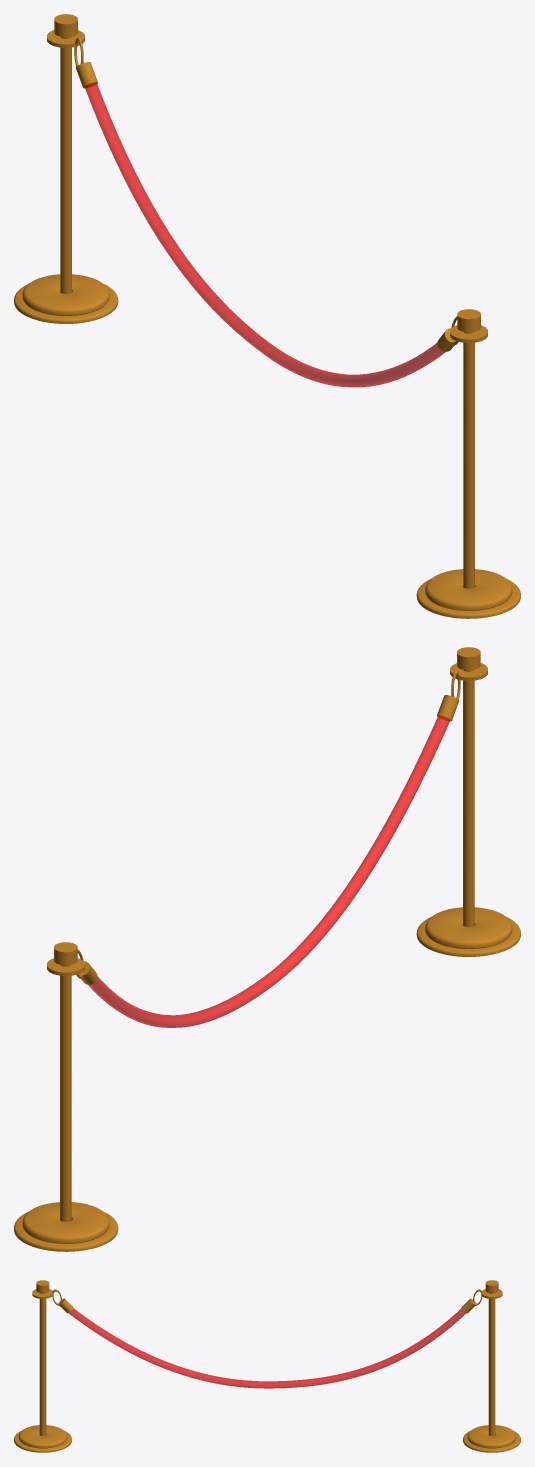
Rendered from Stoyka.fbx.
3 views of the same model, one above another, from view 1: azimuth 30°, elevation 25°; view 2: azimuth 150°, elevation 25°; view 3: azimuth 270°, elevation 25° (orthographic). The views are drawn at different scales.
Parts seen in each view (by area): view 1: Shape030, Menu_stand_007, Menu_stand_004, Tube025, Tube026; view 2: Shape030, Menu_stand_004, Menu_stand_007, Tube026, Tube025; view 3: Shape030, Menu_stand_004, Menu_stand_007, Tube025, Tube026.
Boxes of the visible parts, <box> form: Shape030: <box>85,82,445,387</box>; Menu_stand_007: <box>416,569,520,618</box>; Menu_stand_004: <box>14,274,118,323</box>; Tube025: <box>60,36,71,293</box>; Tube026: <box>463,332,474,588</box>; Shape030: <box>88,715,450,1027</box>; Menu_stand_004: <box>14,1202,118,1251</box>; Menu_stand_007: <box>416,907,520,956</box>; Tube026: <box>463,669,474,926</box>; Tube025: <box>60,965,71,1221</box>; Shape030: <box>68,1308,466,1388</box>; Menu_stand_004: <box>463,1425,520,1452</box>; Menu_stand_007: <box>14,1425,71,1452</box>; Tube025: <box>488,1293,495,1435</box>; Tube026: <box>39,1293,46,1435</box>.
Bounding box in the file's own units: 34.02 × 297 × 102.
